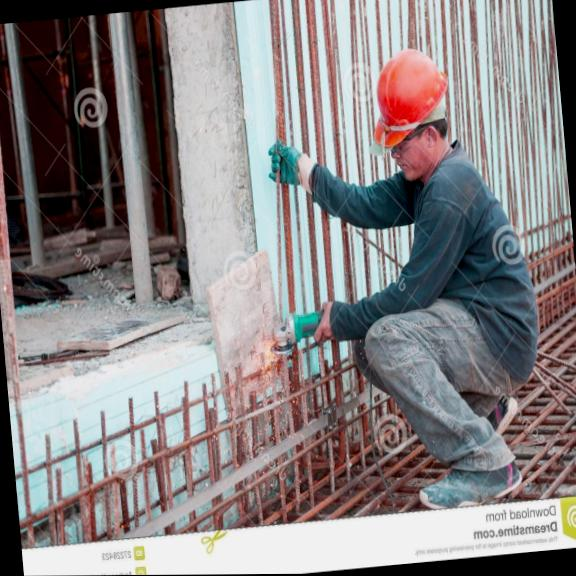no_safety_vest: (386, 148, 542, 392)
